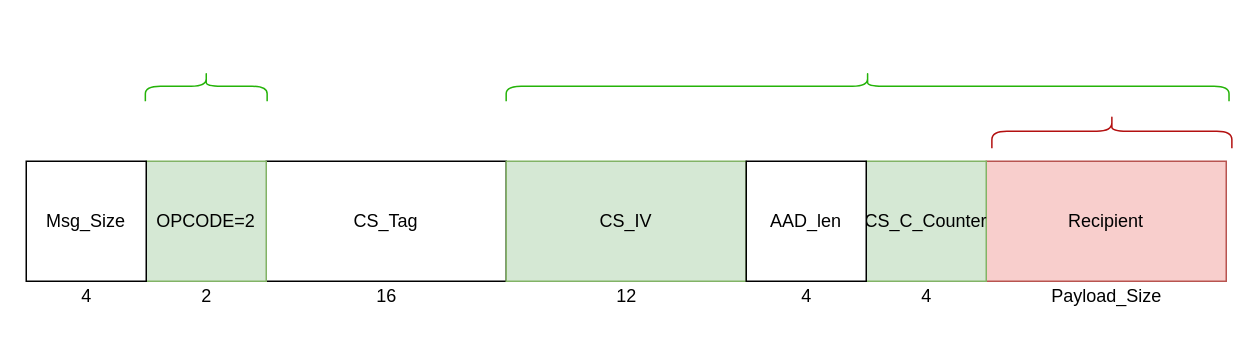
Some shapes in this 1259 by 338 pixel diagram are drawn without their labels. Each missing label, with the centre of its shape:
"Authenticated" goes at point (867, 85).
"Encrypted" goes at point (1111, 130).
